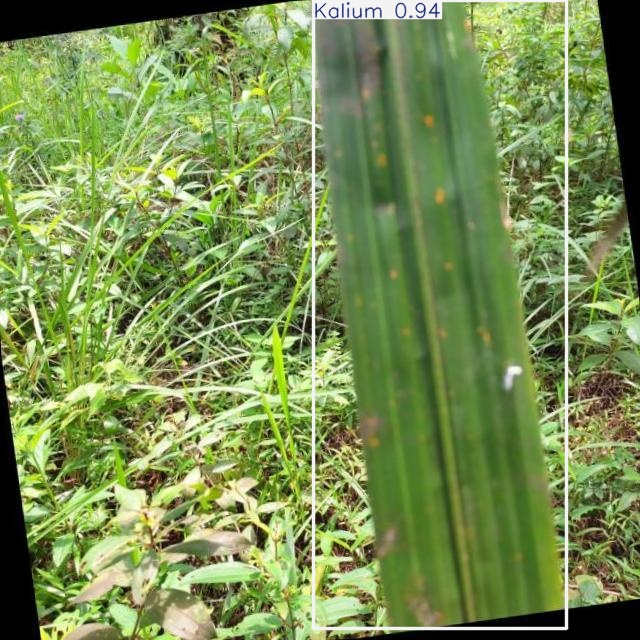Kalium: (313, 0, 566, 629)
